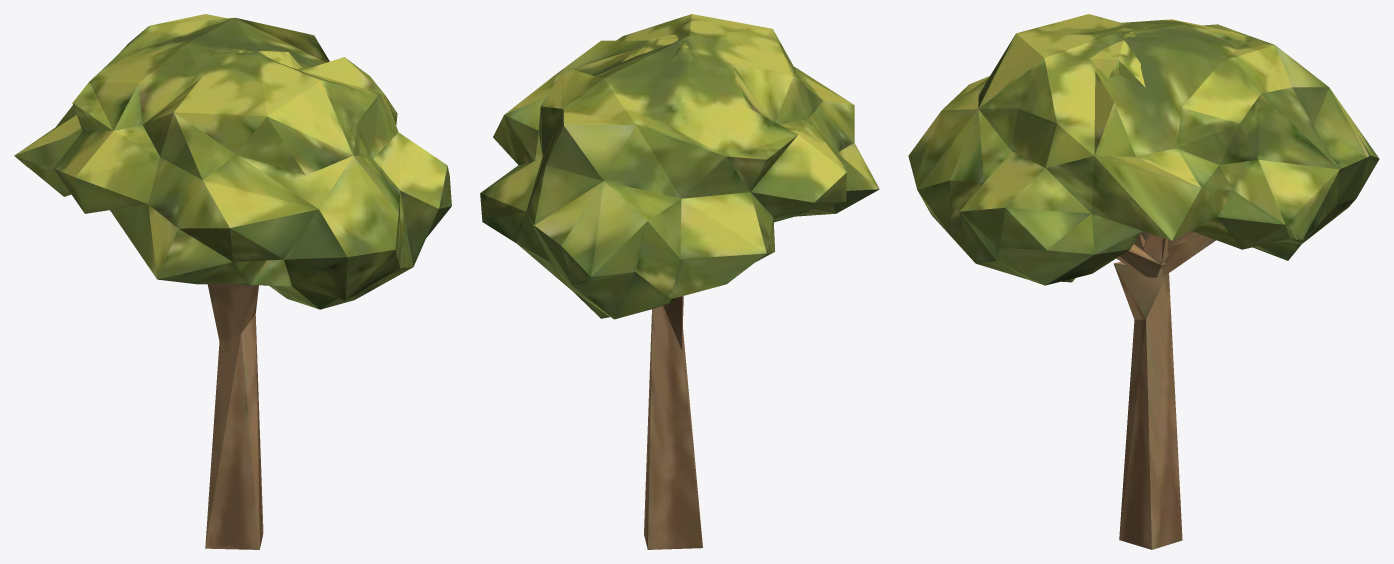
File: tree_round_b_far.glb
The picture shows the model from 3 angles, left to right: view 1: azimuth 30°, elevation 25°; view 2: azimuth 150°, elevation 25°; view 3: azimuth 270°, elevation 25°; orthographic projection. The views are drawn at different scales.
Parts seen in each view (by area): view 1: body; view 2: body; view 3: body.
Part boxes in pixels (bbox=[...]): body: bbox=[14, 14, 451, 549]; body: bbox=[480, 14, 879, 549]; body: bbox=[908, 14, 1379, 549].
Bounding box in the file's own units: 3.13 × 4.37 × 3.72.
Materials: 2 (2 with a texture image).
